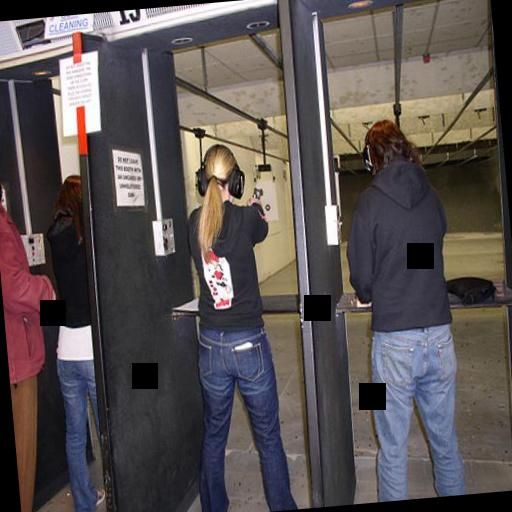Handgun: (247, 184, 262, 202)
